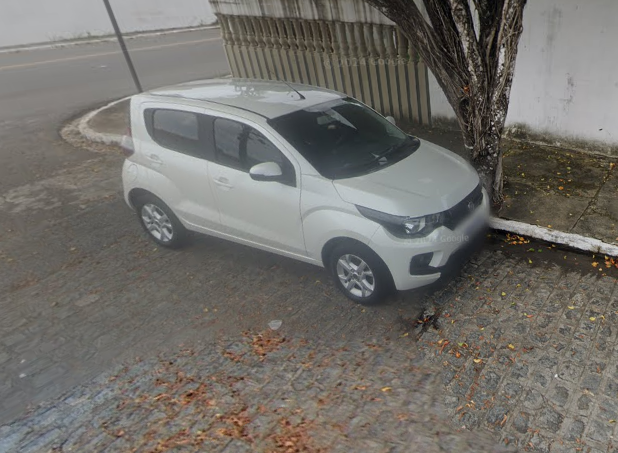car: (120, 70, 494, 310)
